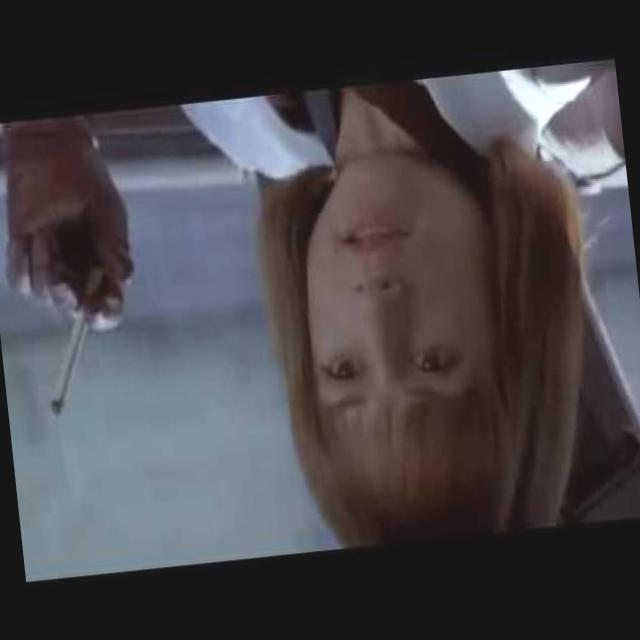smoke: (20, 264, 122, 434)
